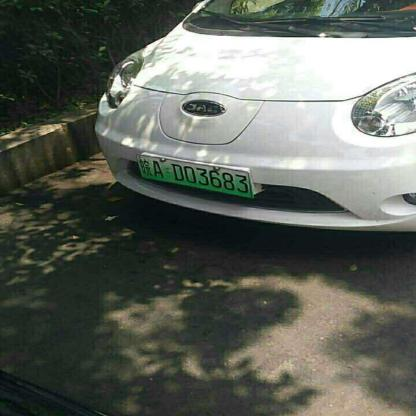lp: (138, 152, 251, 198)
